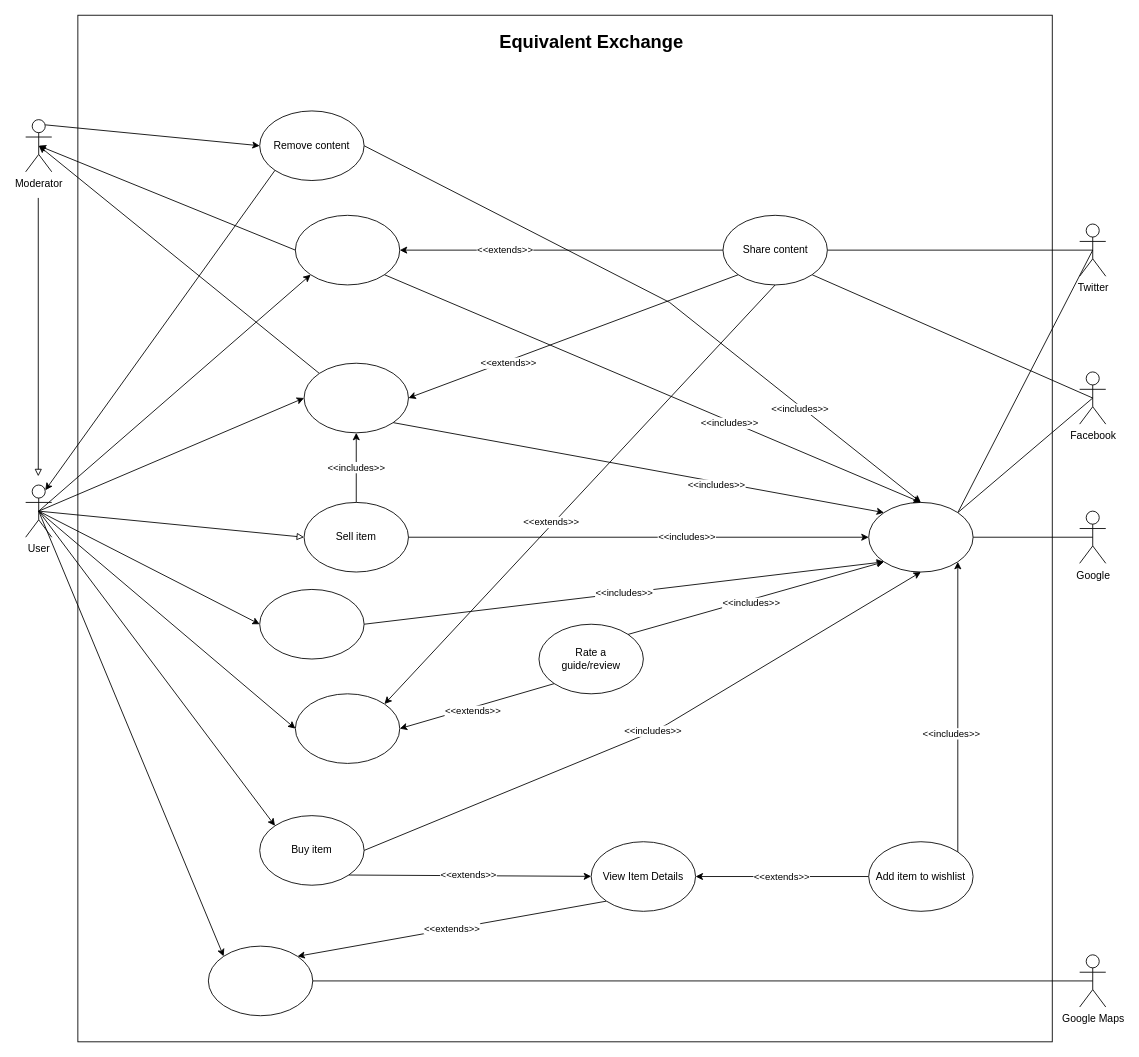
This 1139x1057 diagram has some shape labels left out. Each missing label, with the centre of its shape:
"Login" goes at point (920, 537).
"Post an ad sale" goes at point (355, 397).
"Read a guide/review" goes at point (347, 728).
"View analytics" goes at point (311, 624).
"View Catalogue" goes at point (260, 980).
"Write a guide/review" goes at point (347, 249).
